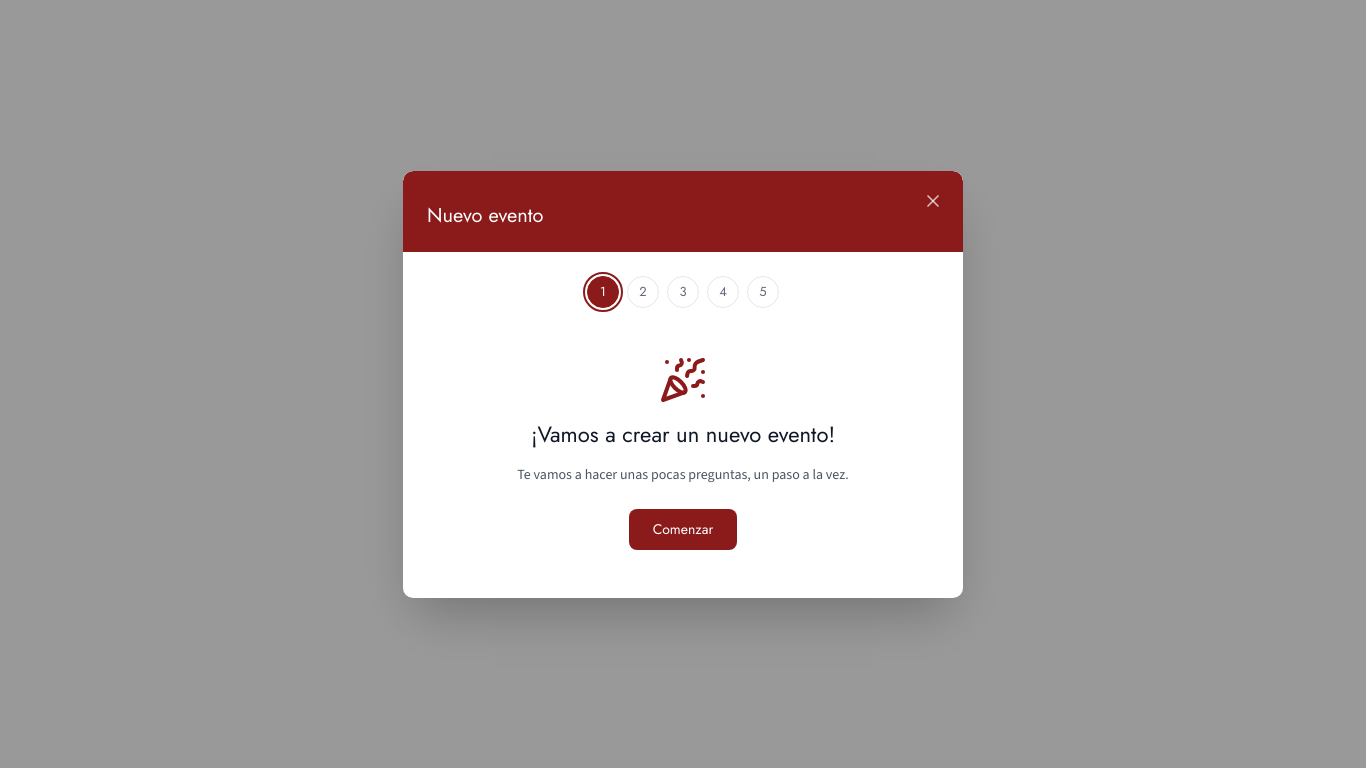
Test case: EventWizard › empieza en la stage de intro; 'Comenzar' avanza a la primera stage de campos
The width and height of the screenshot is (1366, 768).
Expected: the text "¡Vamos a crear un nuevo evento!" is shown, [531,420,835,448]
Expected: the field labelled "Nombre" is not shown
Step 1. Click the button "Comenzar" → (683, 529), box [629,508,737,550]
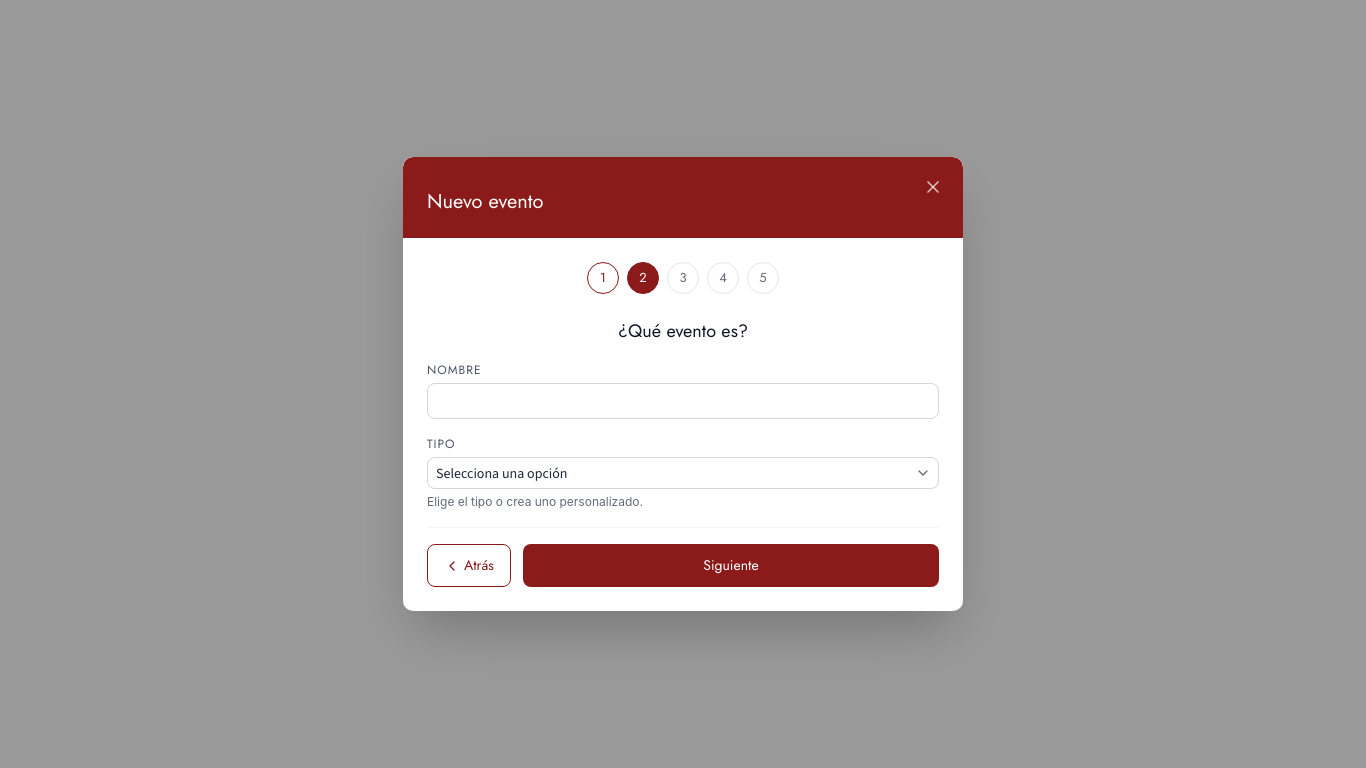
Result: the heading "¿Qué evento es?" is shown at [618,318,748,344]
Result: the field labelled "Nombre" is shown at [427,383,939,419]
